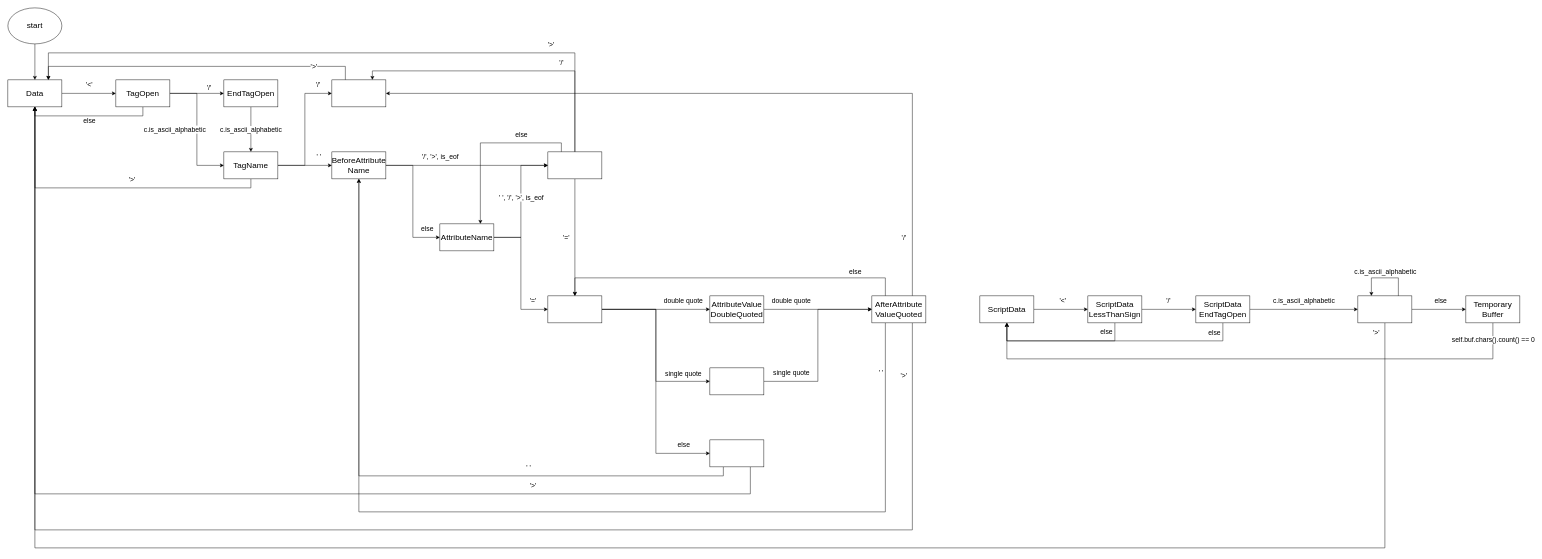
This 1542x559 diagram has some shape labels left out. The box of each missing label's shape, as (x1, y1, x2, y2) in pixels:
AfterAttribute Name: (547, 151, 602, 179)
AttributeValue SingleQuoted: (709, 367, 764, 395)
AttributeValue Unquoted: (709, 439, 764, 467)
BeforeAttribute Value: (547, 295, 602, 323)
ScriptData EndTagName: (1357, 295, 1412, 323)
SelfClosing StartTag: (331, 79, 386, 107)
